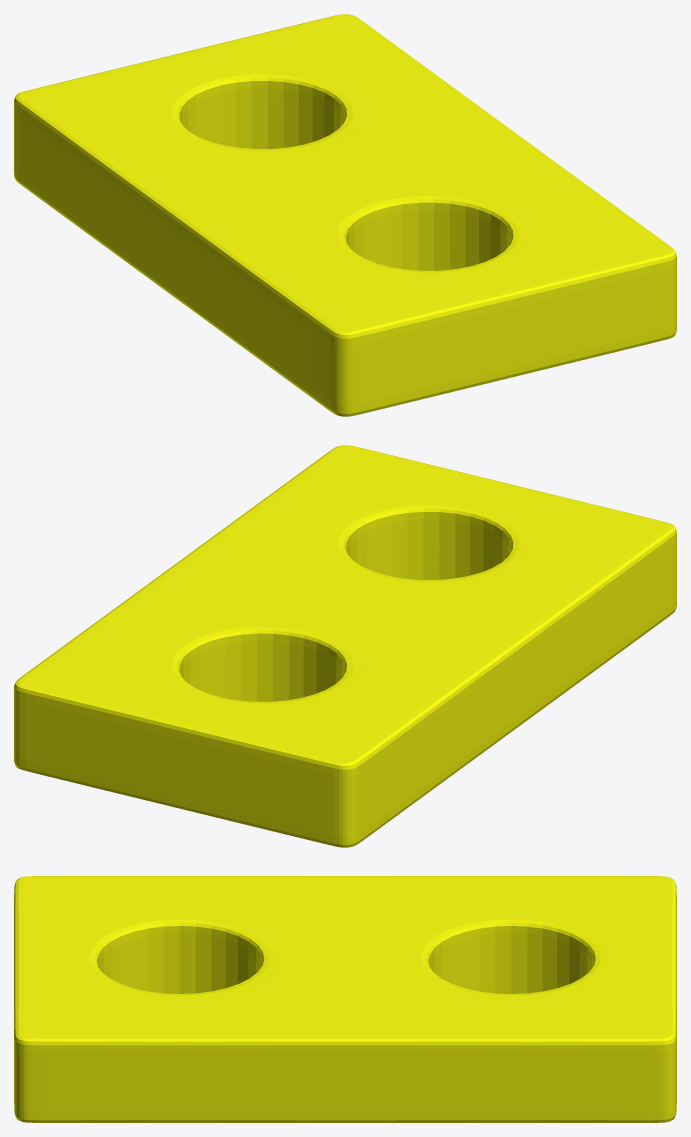
3 views of the same model, one above another, from view 1: azimuth 30°, elevation 25°; view 2: azimuth 150°, elevation 25°; view 3: azimuth 270°, elevation 25° (orthographic).
Size of the model in its own units: 0.0279 by 0.00656 by 0.0469.
